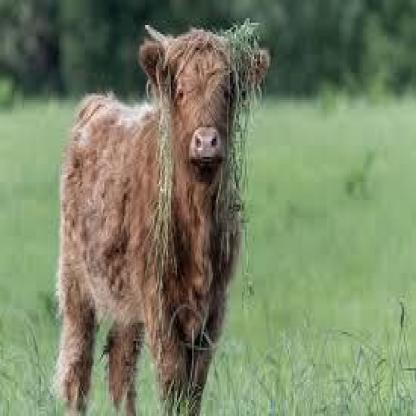cow: (59, 34, 268, 416)
